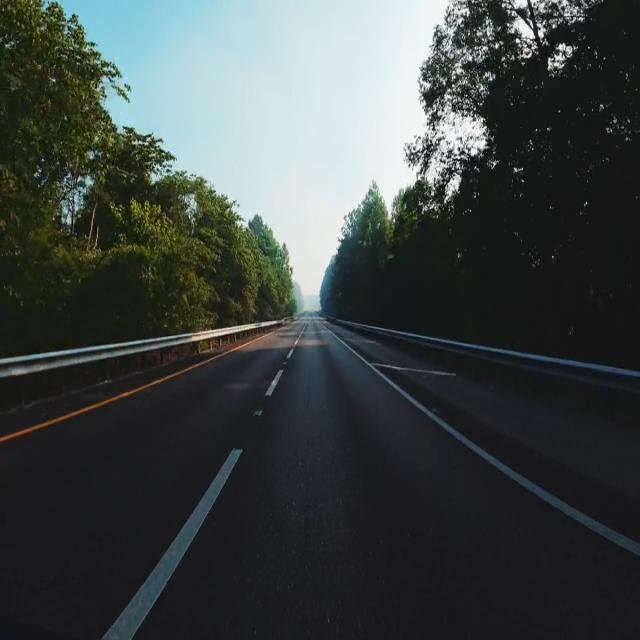asphalt: (0, 317, 640, 639)
